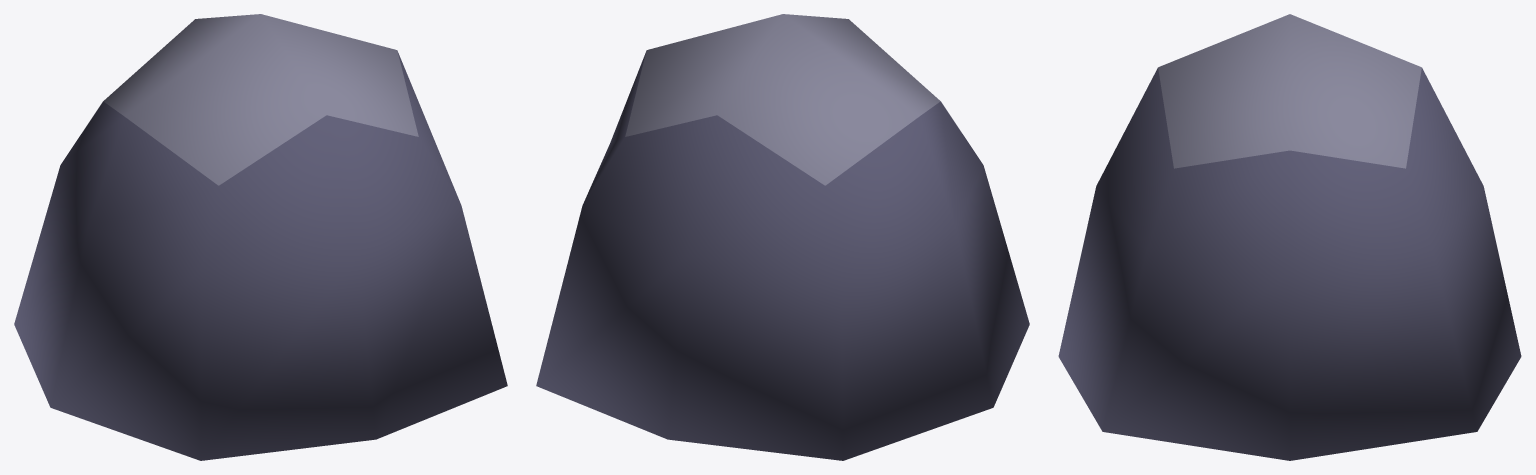
Rendered from rock2.fbx.
3 views of the same model, side by side, from view 1: azimuth 30°, elevation 25°; view 2: azimuth 150°, elevation 25°; view 3: azimuth 270°, elevation 25° (orthographic).
Parts seen in each view (by area): view 1: pCube1; view 2: pCube1; view 3: pCube1.
Boxes of the visible parts, x1=… form: pCube1: x1=14, y1=14, x2=507, y2=460; pCube1: x1=536, y1=14, x2=1029, y2=460; pCube1: x1=1058, y1=14, x2=1521, y2=460.
Bounding box in the file's own units: 14.46 × 11.25 × 13.72.
